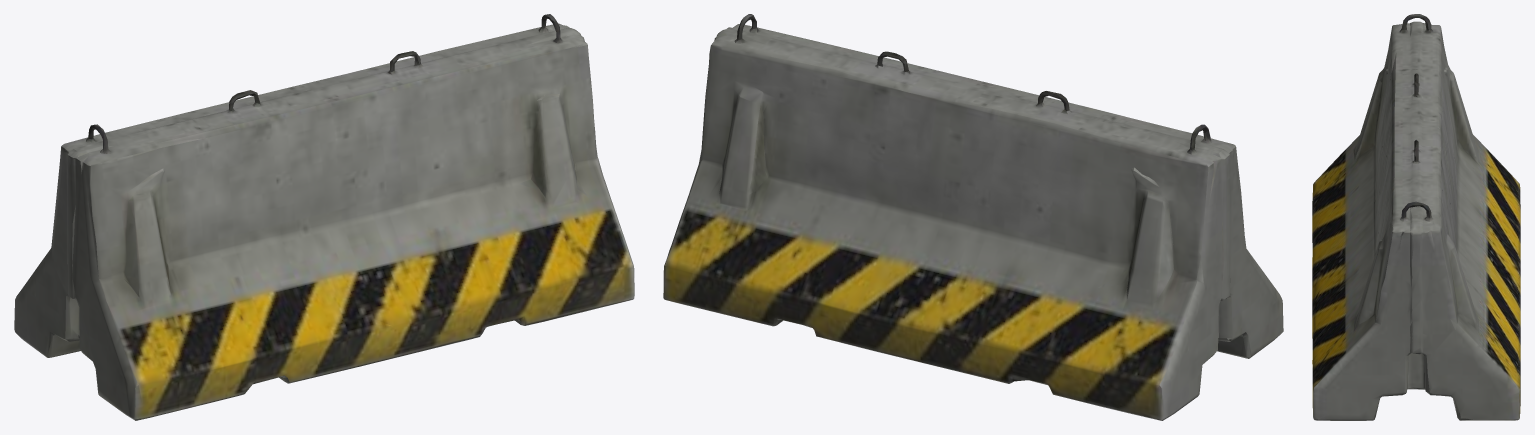
The model's file is jersey_barrier_hazard.glb.
3 views of the same model, side by side, from view 1: azimuth 30°, elevation 25°; view 2: azimuth 150°, elevation 25°; view 3: azimuth 270°, elevation 25° (orthographic). The views are drawn at different scales.
Parts seen in each view (by area): view 1: turn; view 2: turn; view 3: turn.
Part boxes in pixels (x1,y1,x2,y2): turn: (14,14,634,420); turn: (663,14,1283,420); turn: (1312,14,1520,420).
Size of the model in its own units: 1.94 by 0.9001 by 0.8077.
Materials: 1 (1 with a texture image).
